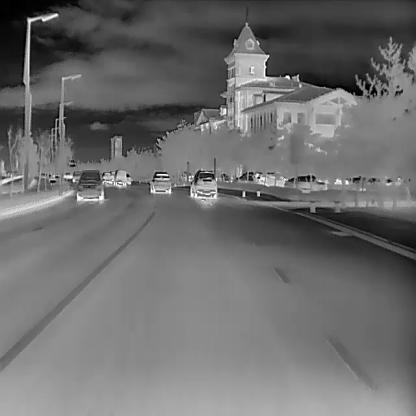car: (75, 168, 104, 202), (190, 169, 217, 197), (284, 174, 326, 187), (149, 170, 171, 193), (113, 169, 126, 185), (102, 170, 111, 183), (72, 170, 80, 181), (126, 172, 131, 184)
